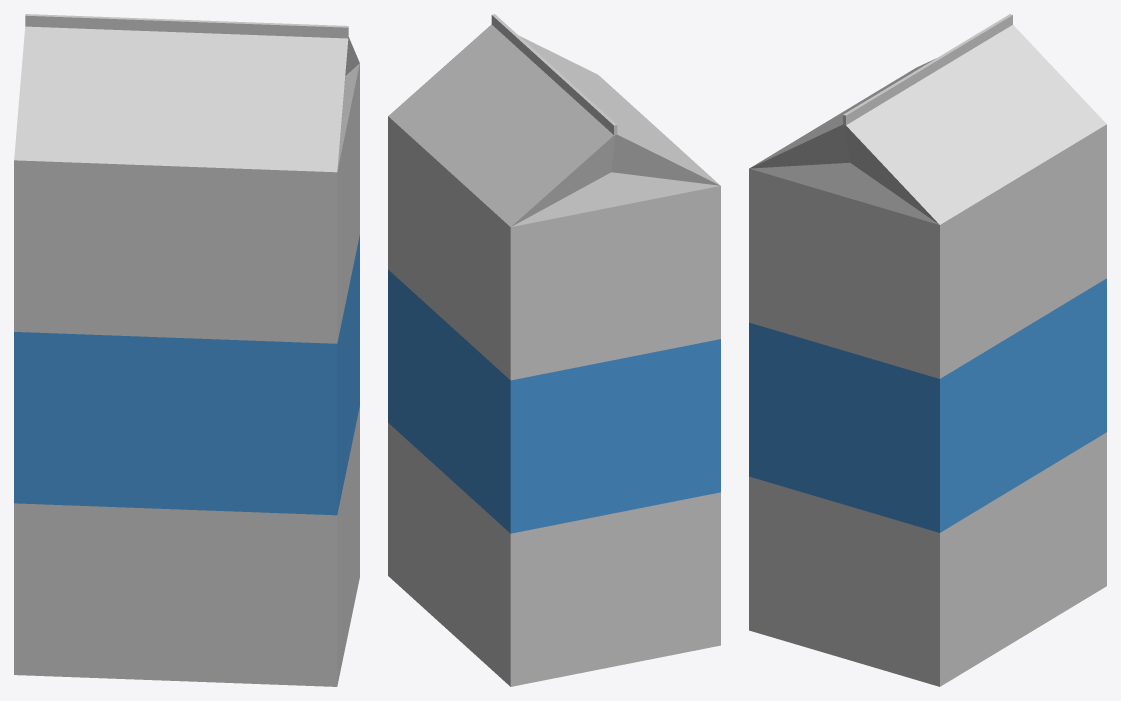
File: uploads_files_3494595_Milk_Carton_Packet_Container.fbx
3 renders of one model, left to right at view 1: azimuth 30°, elevation 25°; view 2: azimuth 150°, elevation 25°; view 3: azimuth 270°, elevation 25°, orthographic. The views are drawn at different scales.
Visible parts, largest first — view 1: Milk_Carton_packet; view 2: Milk_Carton_packet; view 3: Milk_Carton_packet.
Boxes of the visible parts, x1,y1,x2,y2 form: Milk_Carton_packet: (14, 14, 359, 686); Milk_Carton_packet: (388, 14, 720, 686); Milk_Carton_packet: (749, 14, 1106, 686).
Size of what is drawn, in the model's own units: 92.02 by 148 by 88.48.
